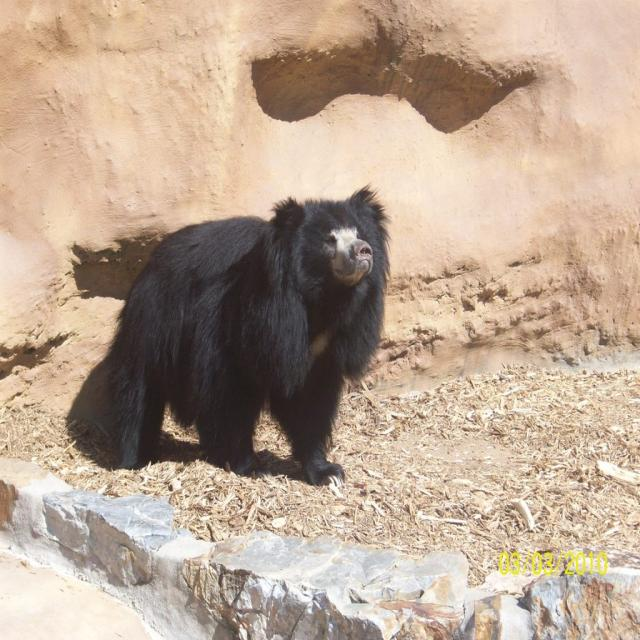Buffalo: (103, 179, 393, 490)
